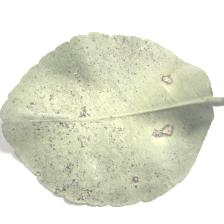canker: (24, 57, 176, 196)
